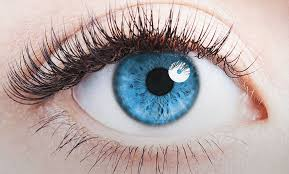pupil: (113, 50, 200, 126)
